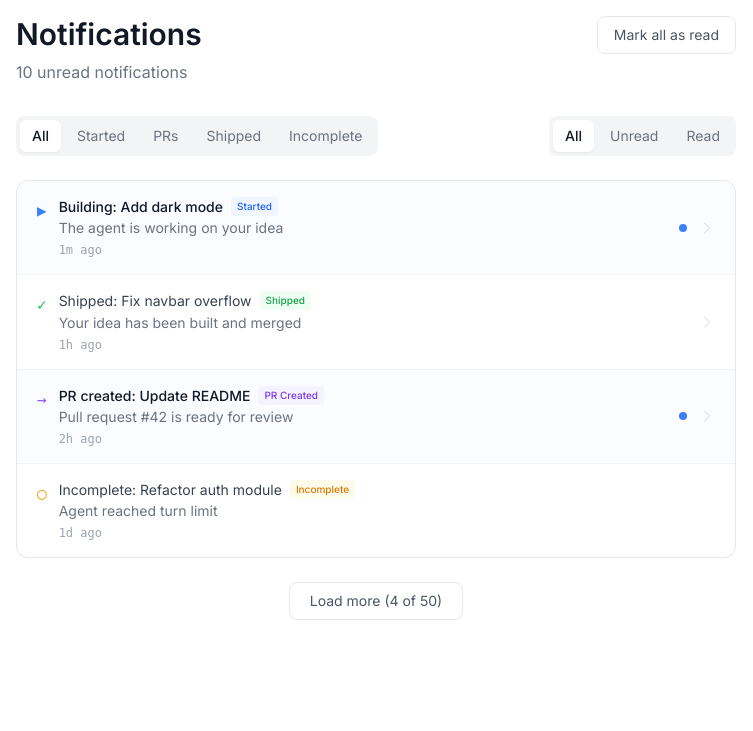
Scenario: NotificationsPage › Load more pagination › loads more notifications when Load more is clicked
Step 1. Click the button "Load more (4 of 50)" → click(376, 601), box [289,582,463,620]
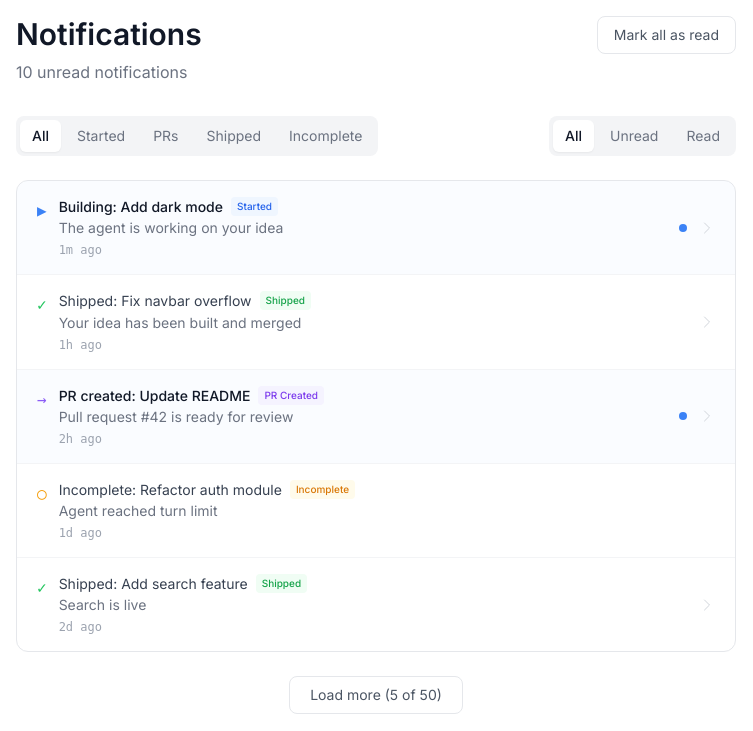
Expected: the text "Building: Add dark mode" is shown, [59,197,223,216]
Now the text "Shipped: Add search feature" is shown, box [59,574,248,593]
